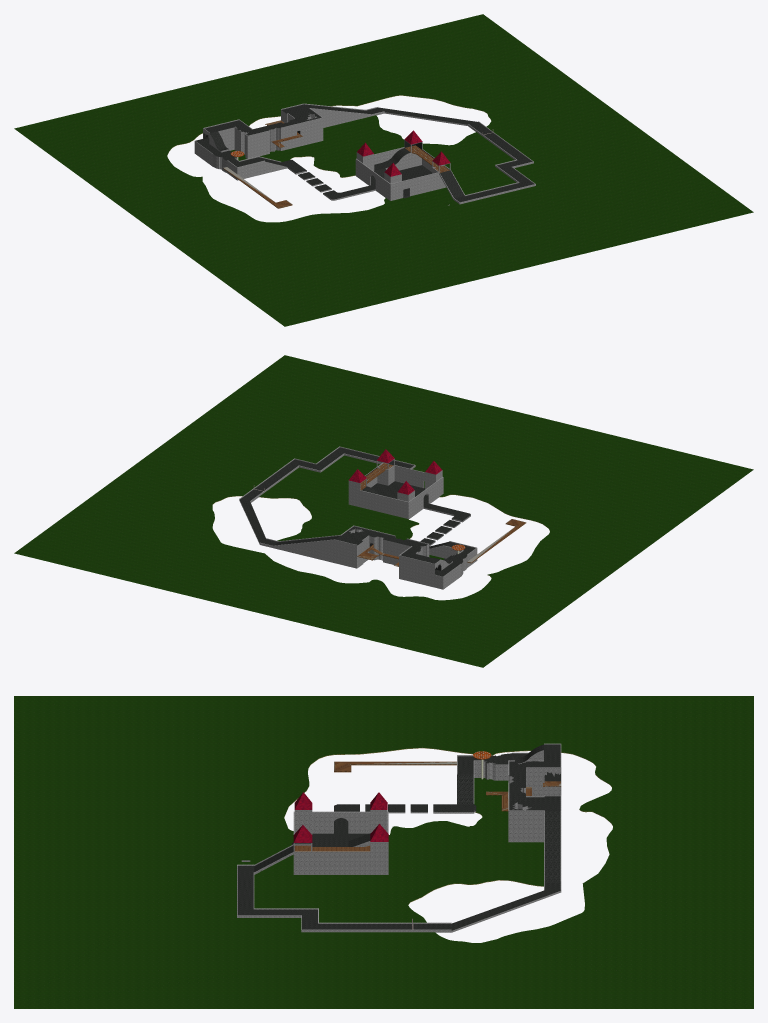
3 renders of one model, top to bottom at view 1: azimuth 30°, elevation 25°; view 2: azimuth 150°, elevation 25°; view 3: azimuth 270°, elevation 25°, orthographic. The views are drawn at different scales.
Visible parts, largest first — view 1: Kinoko_Valley_2k17_Main-herbe1, Kinoko_Valley_2k17_Main-mur2, Kinoko_Valley_2k17_Main-road1, Kinoko_Valley_2k17_Main-roof; view 2: Kinoko_Valley_2k17_Main-herbe1, Kinoko_Valley_2k17_Main-mur2, Kinoko_Valley_2k17_Main-road1, Kinoko_Valley_2k17_Main-roof; view 3: Kinoko_Valley_2k17_Main-herbe1, Kinoko_Valley_2k17_Main-mur2, Kinoko_Valley_2k17_Main-road1, Kinoko_Valley_2k17_Main-roof, Kinoko_Valley_2k17_Main-roadwood1, Kinoko_Valley_2k17_Main-paroi1.
Boxes of the visible parts, x1,y1,x2,y2 form: Kinoko_Valley_2k17_Main-herbe1: (14,14,753,326); Kinoko_Valley_2k17_Main-mur2: (194,103,535,205); Kinoko_Valley_2k17_Main-road1: (196,104,533,202); Kinoko_Valley_2k17_Main-roof: (357,130,450,176); Kinoko_Valley_2k17_Main-herbe1: (14,355,753,667); Kinoko_Valley_2k17_Main-mur2: (239,446,477,589); Kinoko_Valley_2k17_Main-road1: (239,447,475,576); Kinoko_Valley_2k17_Main-roof: (349,449,441,494); Kinoko_Valley_2k17_Main-herbe1: (14,696,753,1008); Kinoko_Valley_2k17_Main-mur2: (237,743,561,932); Kinoko_Valley_2k17_Main-road1: (237,744,560,930); Kinoko_Valley_2k17_Main-roof: (293,792,388,842); Kinoko_Valley_2k17_Main-roadwood1: (334,761,456,771); Kinoko_Valley_2k17_Main-paroi1: (284,747,612,904).
Size of the model in its own units: 148750 by 10620 by 148750.
Materials: 17 (17 with a texture image).
